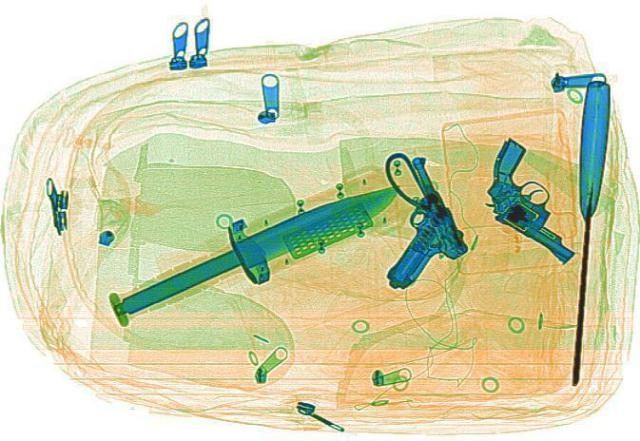Gun: (432, 134, 636, 263), (330, 153, 482, 290)
Knife: (106, 174, 410, 319), (562, 80, 610, 383)
